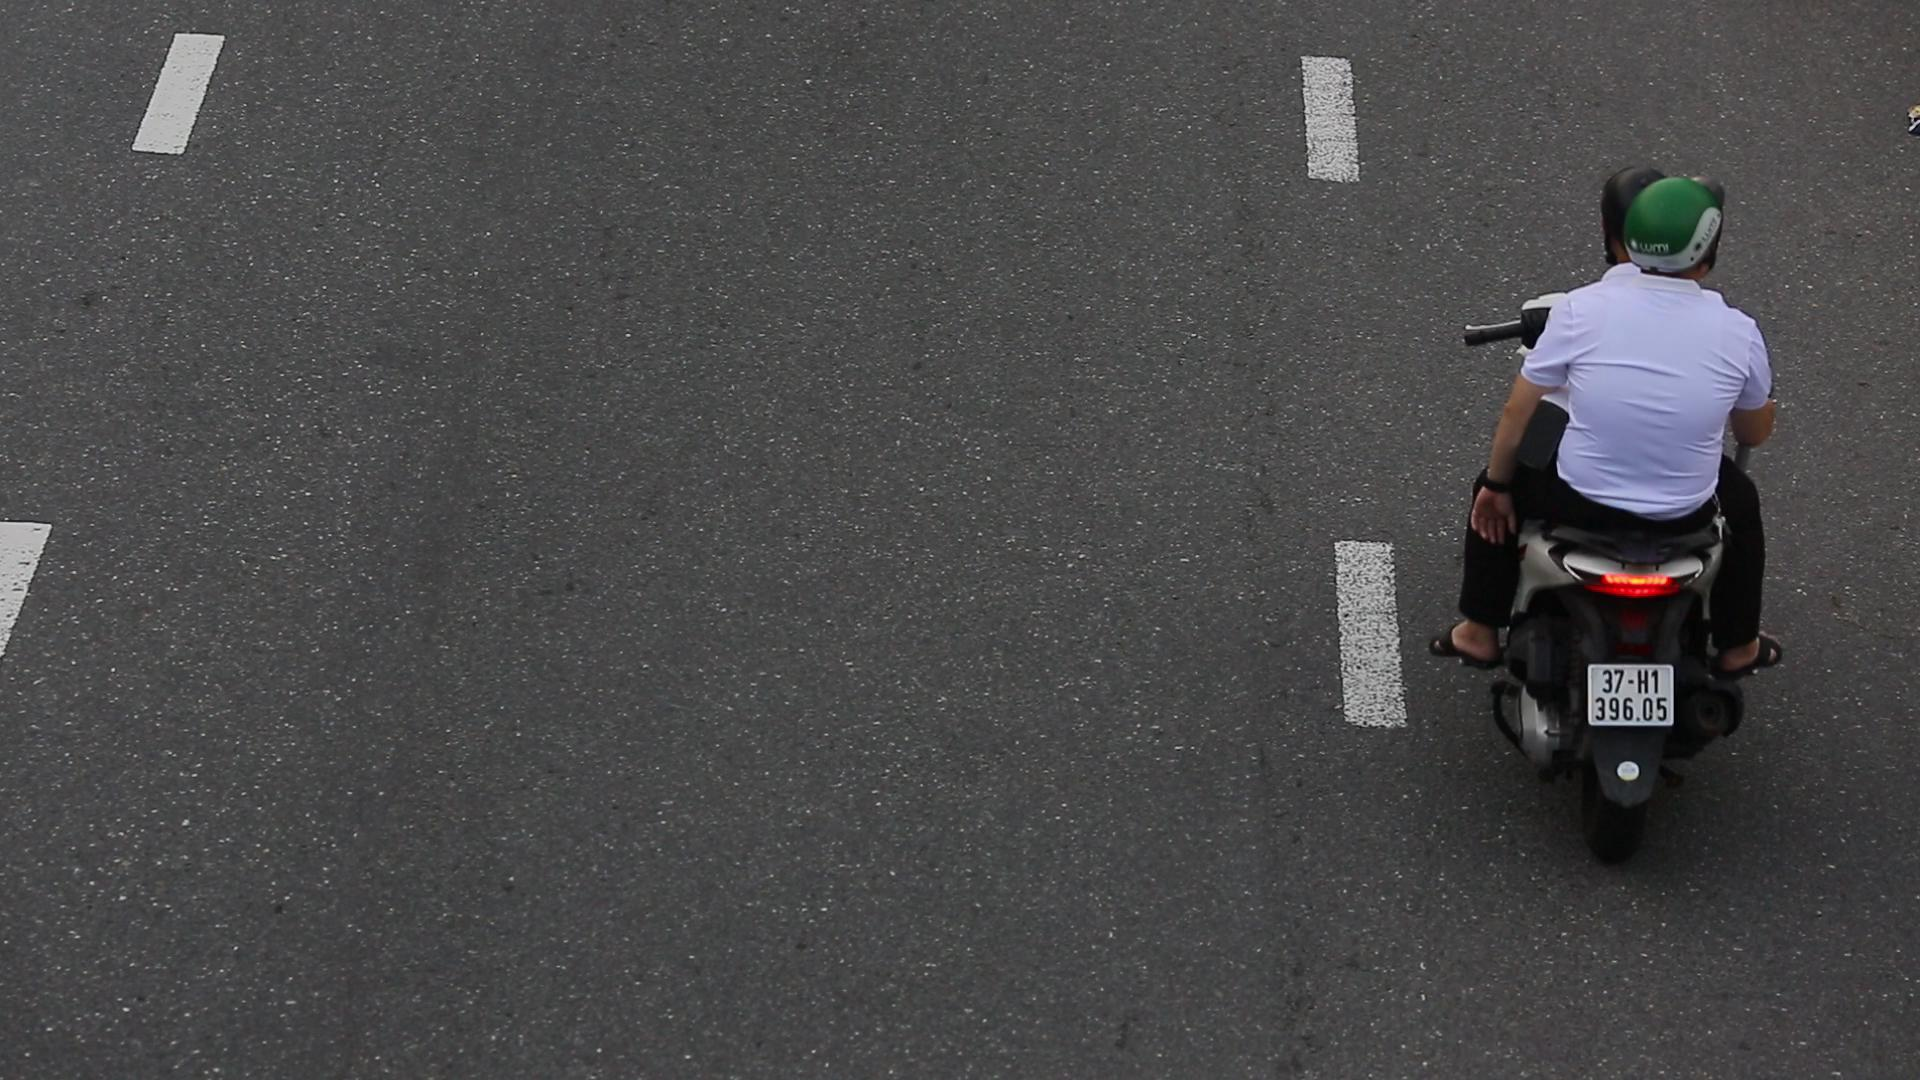motobike: (1445, 146, 1824, 910)
